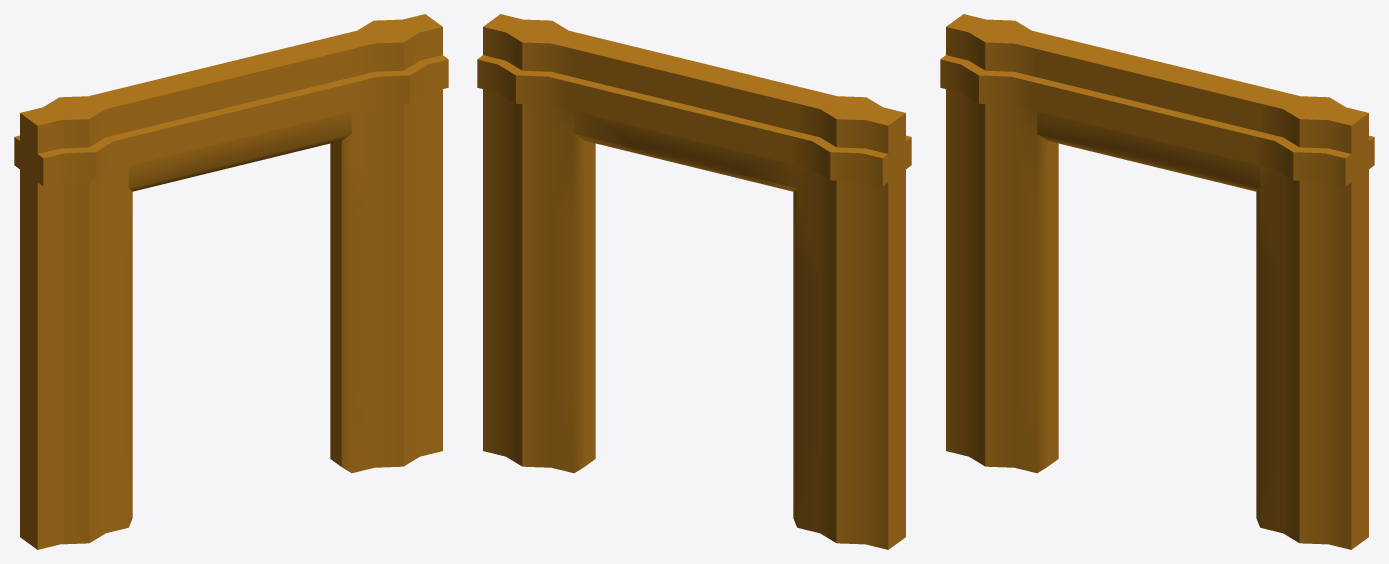
File: stone_door_frame_4x4.fbx
3 views of the same model, side by side, from view 1: azimuth 30°, elevation 25°; view 2: azimuth 150°, elevation 25°; view 3: azimuth 330°, elevation 25° (orthographic).
Parts seen in each view (by area): view 1: stone_door_frame_4x4; view 2: stone_door_frame_4x4; view 3: stone_door_frame_4x4.
Part boxes in pixels (x1,y1,x2,y2): stone_door_frame_4x4: [14, 14, 448, 549]; stone_door_frame_4x4: [477, 14, 911, 549]; stone_door_frame_4x4: [940, 14, 1374, 549].
Bounding box in the file's own units: 18.2 × 18.2 × 3.33.
